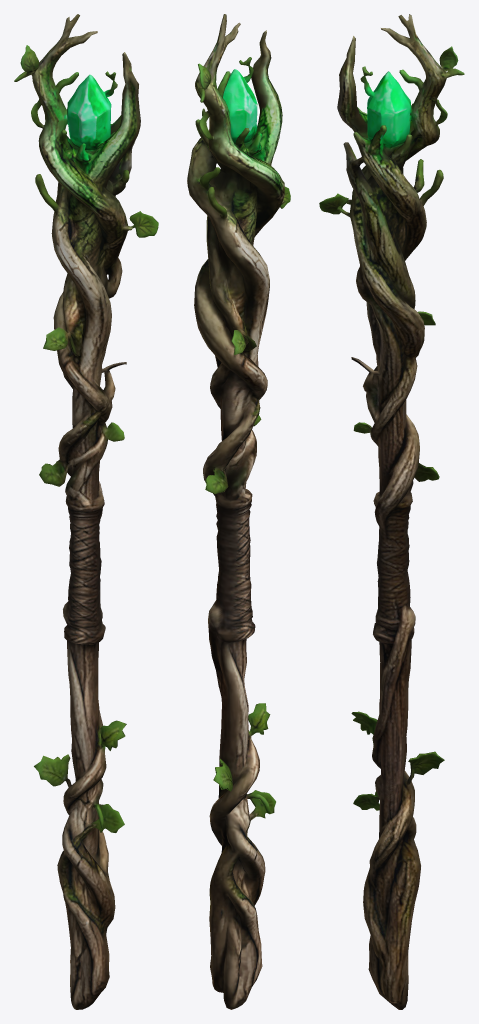
File: vinewood_staff.glb
3 renders of one model, left to right at view 1: azimuth 90°, elevation 25°; view 2: azimuth 150°, elevation 25°; view 3: azimuth 270°, elevation 25°, orthographic.
Visible parts, largest first — view 1: vinewood_staff; view 2: vinewood_staff; view 3: vinewood_staff.
Part boxes in pixels (x1=…): vinewood_staff: x1=14, y1=14, x2=158, y2=1009; vinewood_staff: x1=187, y1=14, x2=290, y2=1009; vinewood_staff: x1=319, y1=14, x2=464, y2=1009.
Bounding box in the file's own units: 0.1669 × 1.82 × 0.2408.
1 material, 1 textured.
